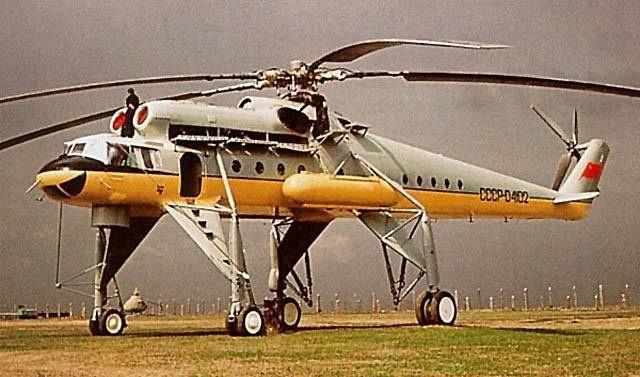airplane: (26, 37, 638, 337)
